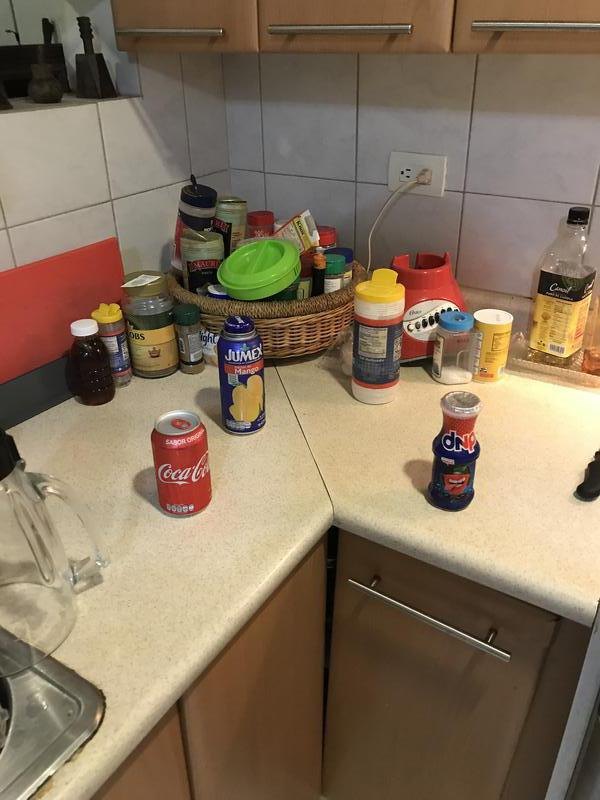coca_cola: (152, 408, 214, 518)
danup: (429, 389, 485, 515)
jugo_jumex: (216, 315, 270, 435)
